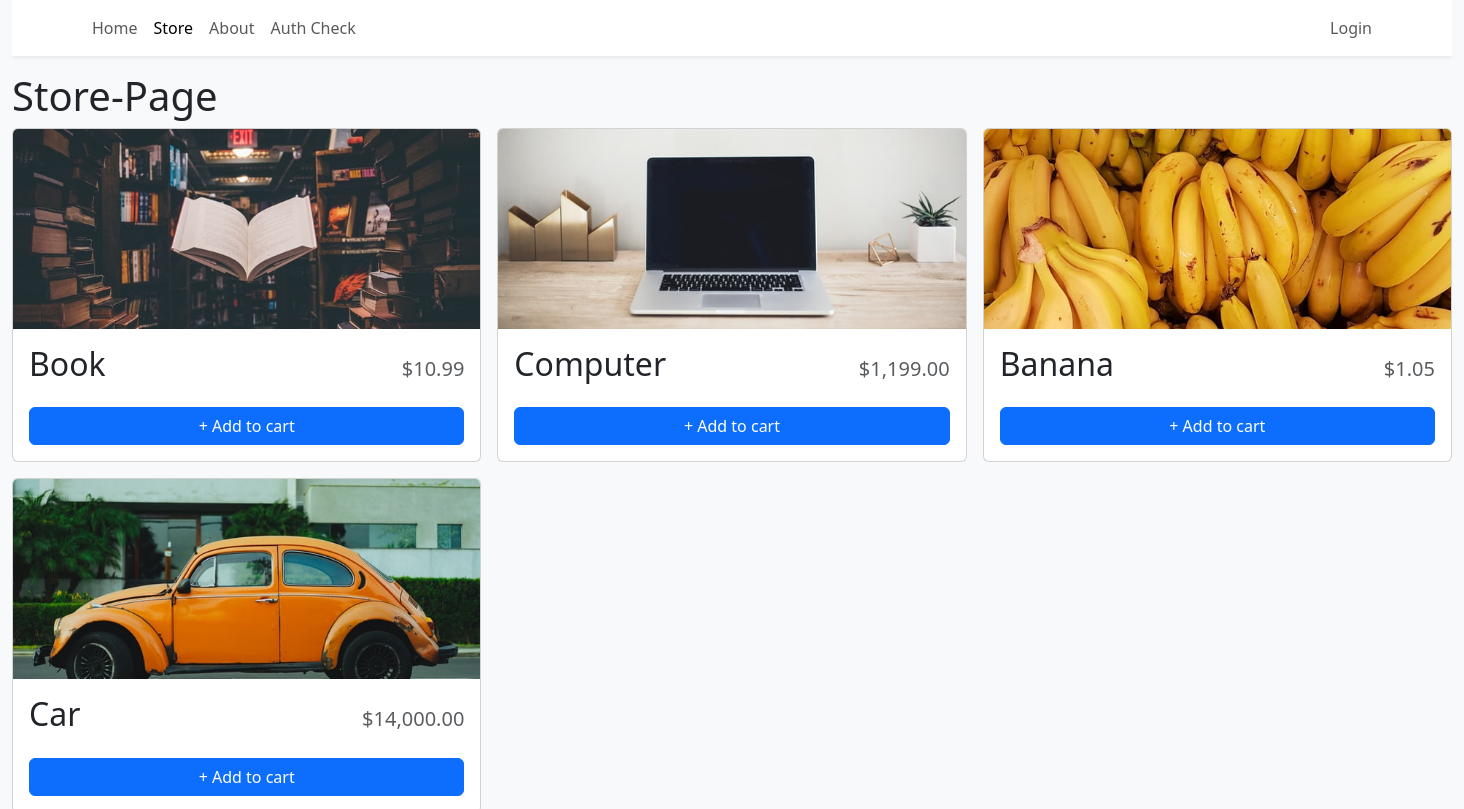
Scenario: should display Cart Button on clicking add to cart, display cart quantity inside the cart-count segment, hide Cart button on removing cart items completely
Click the button "+ Add to cart" below "Book" at (247, 426), box [29,407,464,445]
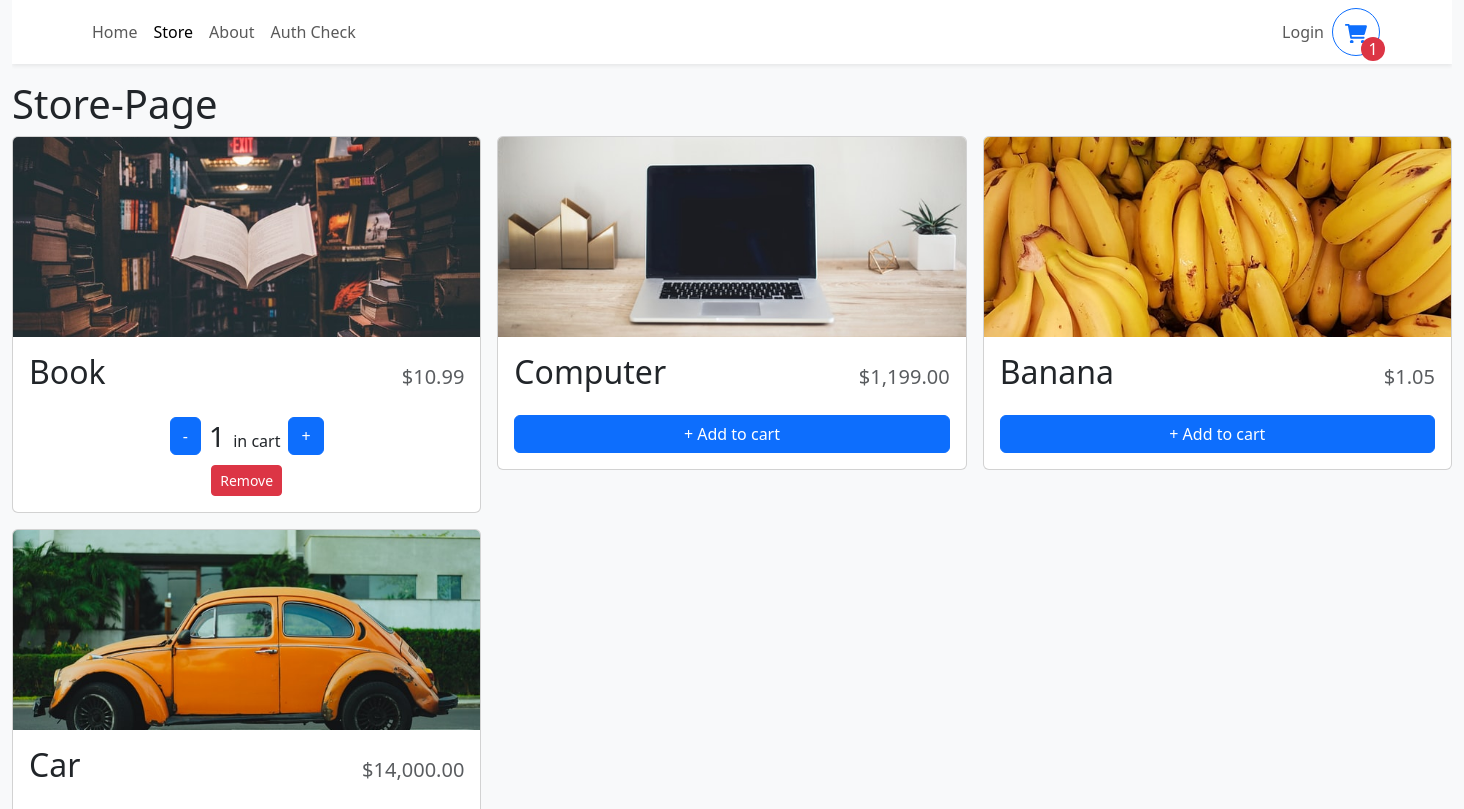
Now the button with test id "navbar-cart-button" is shown, box [1332,8,1380,56]
Now the icon with test id "navbar-cart-button-svg" is shown, box [1345,24,1367,43]
Now the text with test id "navbar-cart-button-cart-count" is shown, box [1361,37,1385,61]
Click the button "+" at (306, 436), box [288,417,324,455]
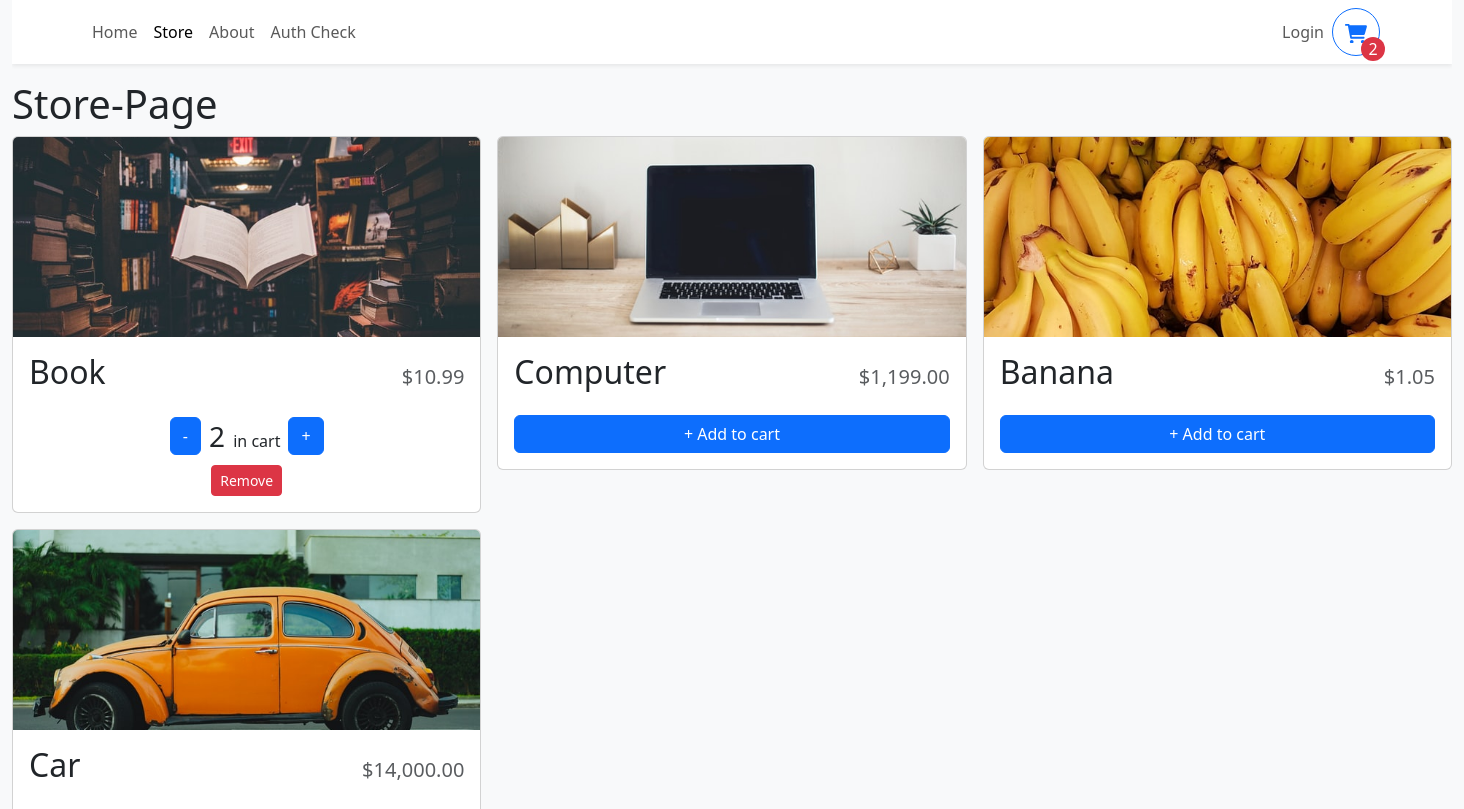
Now the text with test id "navbar-cart-button-cart-count" reads "2", box [1368,38,1378,60]
Click the button "Remove" at (247, 481), box [211,465,282,496]
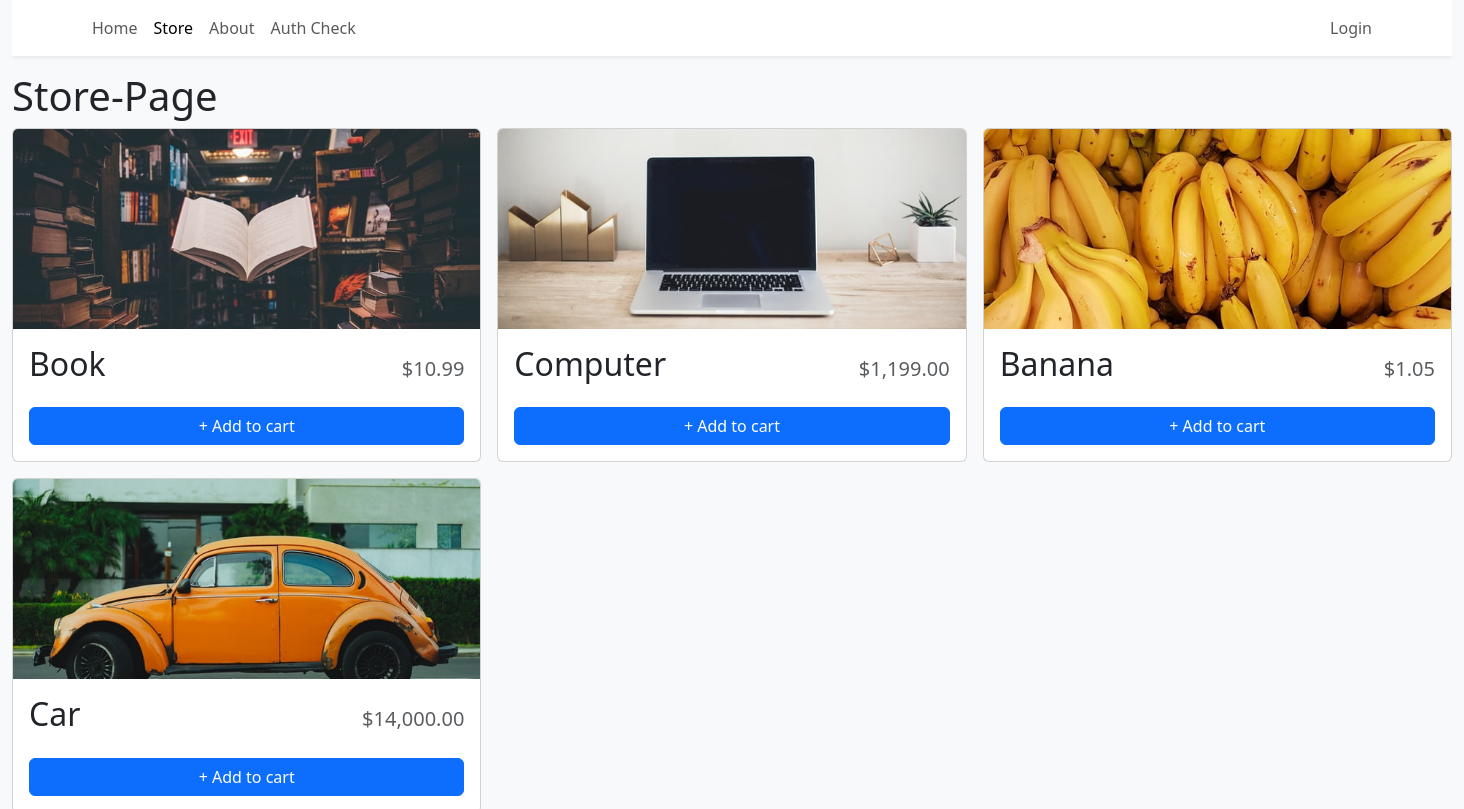
Now the button with test id "navbar-cart-button" is gone
